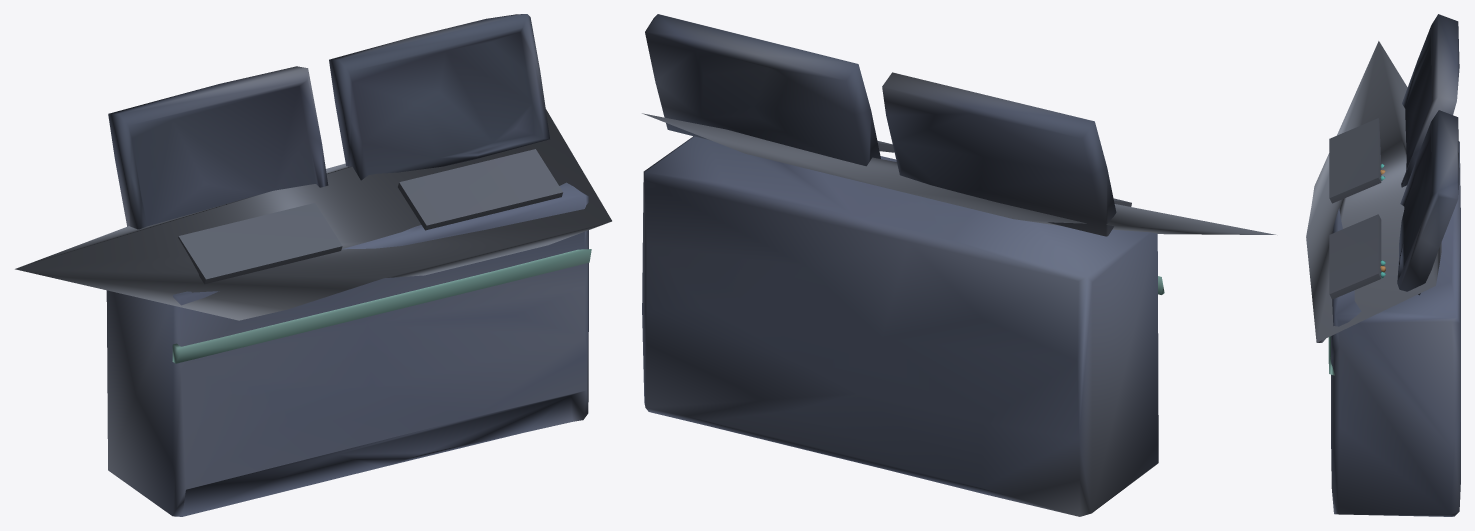
Rendered from bay_console2.glb.
3 renders of one model, left to right at view 1: azimuth 30°, elevation 25°; view 2: azimuth 150°, elevation 25°; view 3: azimuth 270°, elevation 25°, orthographic. The views are drawn at different scales.
Parts seen in each view (by area): view 1: console; view 2: console; view 3: console.
Boxes of the visible parts, x1,y1,x2,y2 form: console: (15,14,611,516); console: (642,14,1275,516); console: (1306,14,1460,516).
Bounding box in the file's own units: 2.14 × 1.33 × 0.572.
